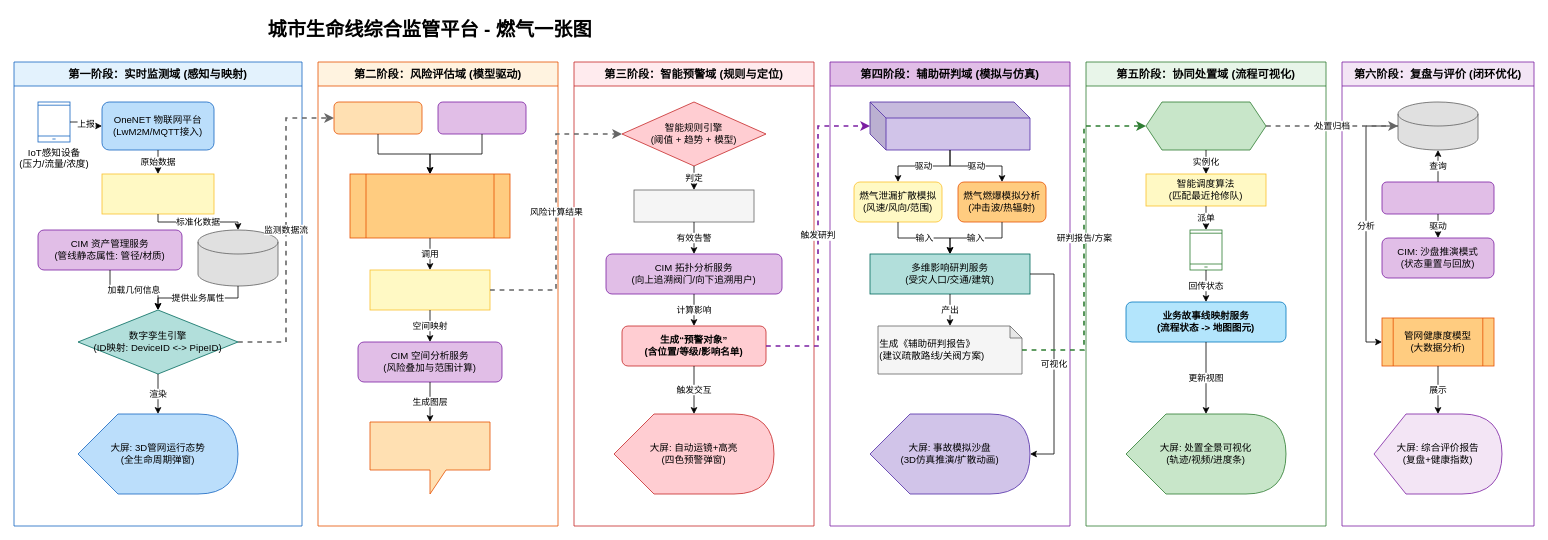
The diagram is 1548 pixels wide and 540 high, and some of its shapes have lost their labels. The centre of each missing label's shape, as x and y in pixels:
"CIM+物理仿真引擎 (核心计算单元)" belongs at [949,125].
"CIM环境数据 (密闭空间/人口)" belongs at [481,117].
"去重与过滤服务 (避免告警风暴)" belongs at [693,205].
"大屏: 动态风险云图 (爆炸当量/影响范围)" belongs at [429,457].
"实时风险计算服务" belongs at [429,289].
"归档至历史专题库" belongs at [1437,125].
"数据中台: ETL服务 (清洗/去噪/对齐)" belongs at [157,193].
"时序播放控制器 (时间轴组件)" belongs at [1437,197].
"时序监测数据流" belongs at [377,117].
"流程引擎 (BPMN) 启动应急预案" belongs at [1205,125].
"燃气安全专题库 (Subject DB)" belongs at [237,257].
"移动端: 抢修APP (接单/轨迹/视频回传)" belongs at [1205,249].
"算法模型库 1. 气体扩散模型 2. 管道水力模拟 3. 爆管预测模型" belongs at [429,205].
